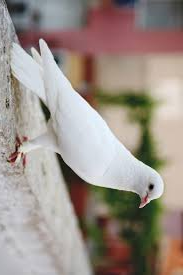pigeon: (7, 37, 166, 211)
